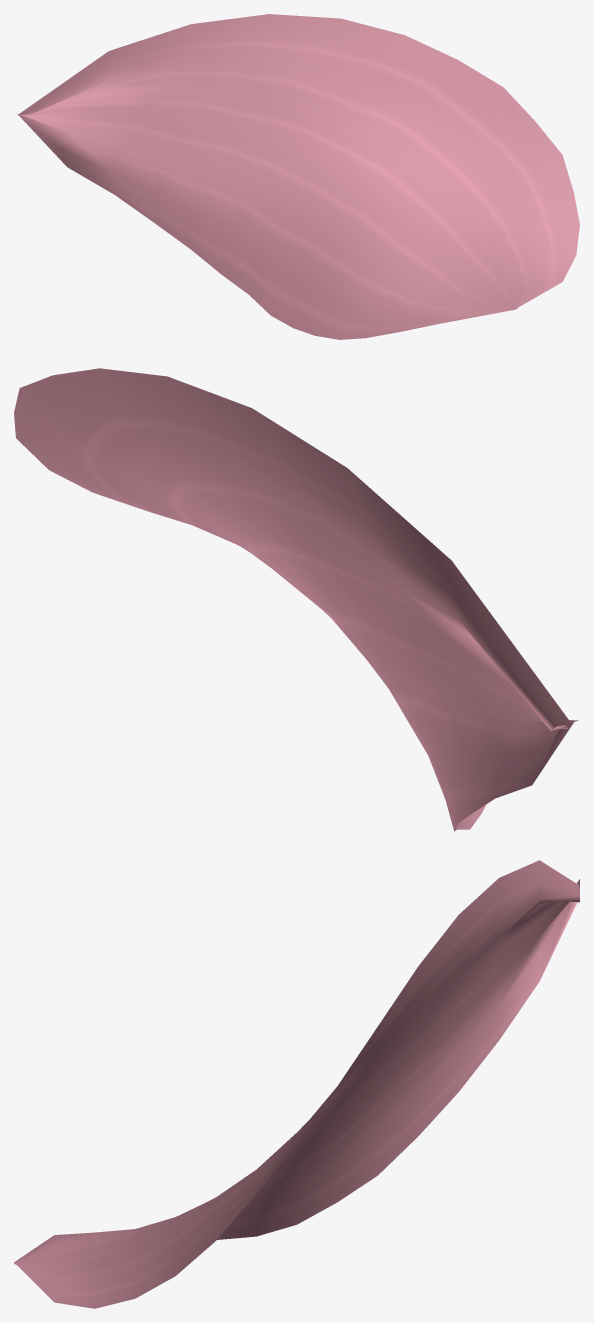
The model's file is petal_22_large_mix.glb.
The picture shows the model from 3 angles, top to bottom: view 1: azimuth 30°, elevation 25°; view 2: azimuth 150°, elevation 25°; view 3: azimuth 270°, elevation 25°; orthographic projection. The views are drawn at different scales.
Visible parts, largest first — view 1: petal_22_large_mix; view 2: petal_22_large_mix; view 3: petal_22_large_mix.
Boxes of the visible parts, <box> form: petal_22_large_mix: <box>17,14,579,339</box>; petal_22_large_mix: <box>14,368,578,831</box>; petal_22_large_mix: <box>14,860,579,1308</box>.
Size of the model in its own units: 0.1408 by 0.0802 by 0.116.
1 material, 1 textured.
